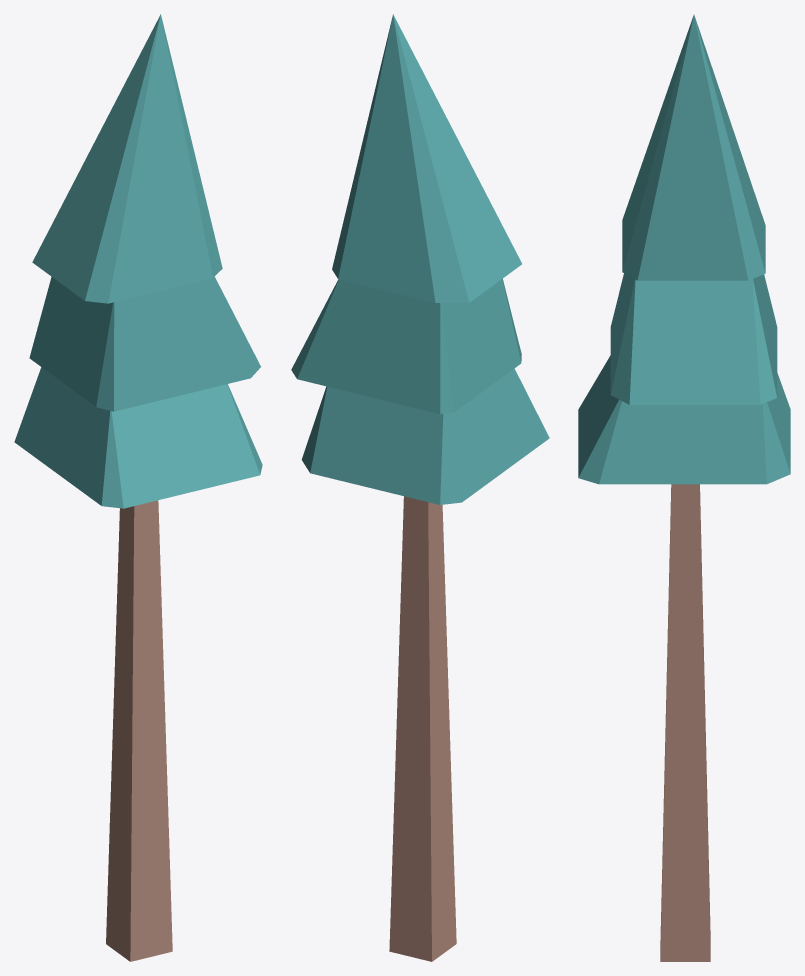
File: tree_pineTallB.glb
The picture shows the model from 3 angles, left to right: view 1: azimuth 30°, elevation 25°; view 2: azimuth 150°, elevation 25°; view 3: azimuth 270°, elevation 25°; orthographic projection. The views are drawn at different scales.
Visible parts, largest first — view 1: tree_pineTallB; view 2: tree_pineTallB; view 3: tree_pineTallB.
Boxes of the visible parts, <box> form: tree_pineTallB: <box>14,14,262,961</box>; tree_pineTallB: <box>291,14,549,961</box>; tree_pineTallB: <box>578,14,790,961</box>.
Size of the model in its own units: 0.3863 by 1.93 by 0.392.
